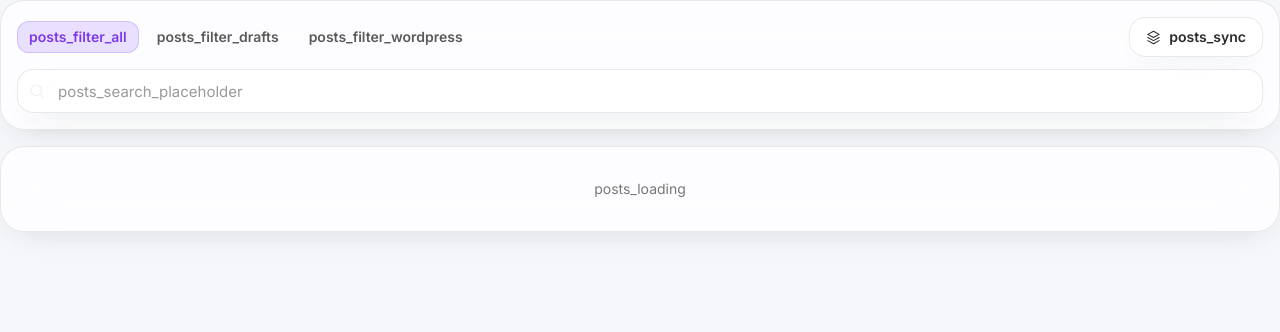
Test: PostsClient › sincronizar enfileira e avisa
Click the button "posts_sync".
click(1196, 37)  # box [1129,17,1263,57]
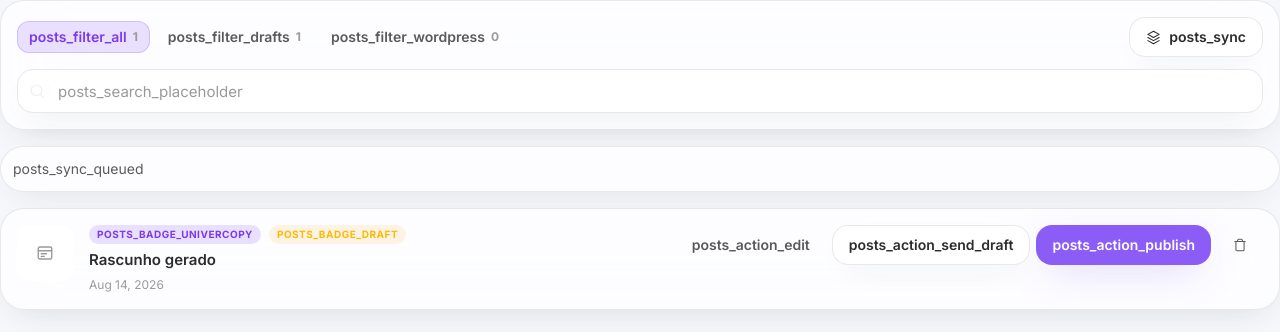
Check: the text "posts_sync_queued" is shown, box [13,160,144,177]
